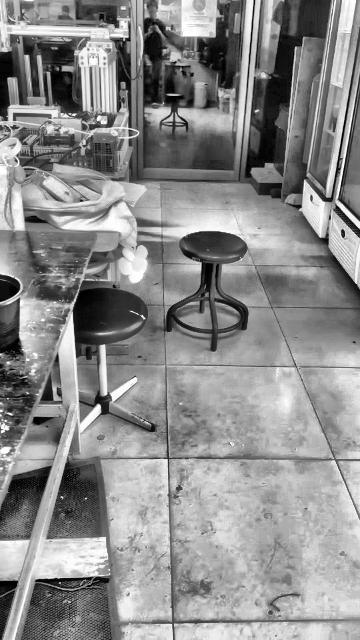pot: (1, 273, 21, 353)
